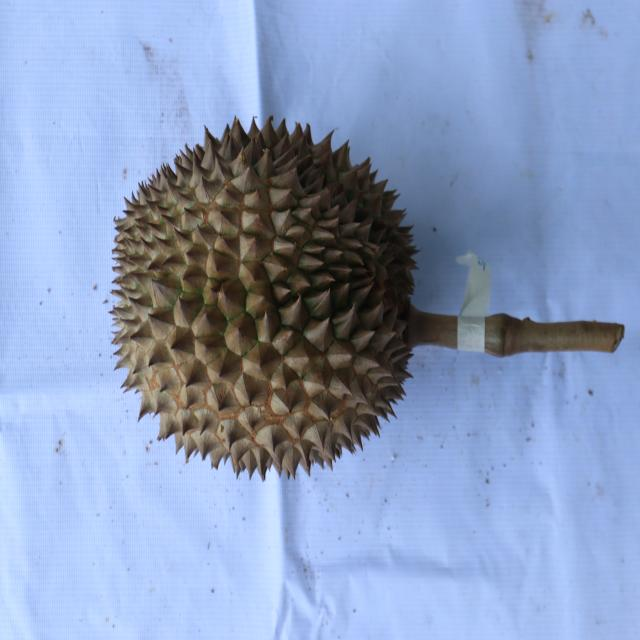mature: (109, 114, 418, 483)
